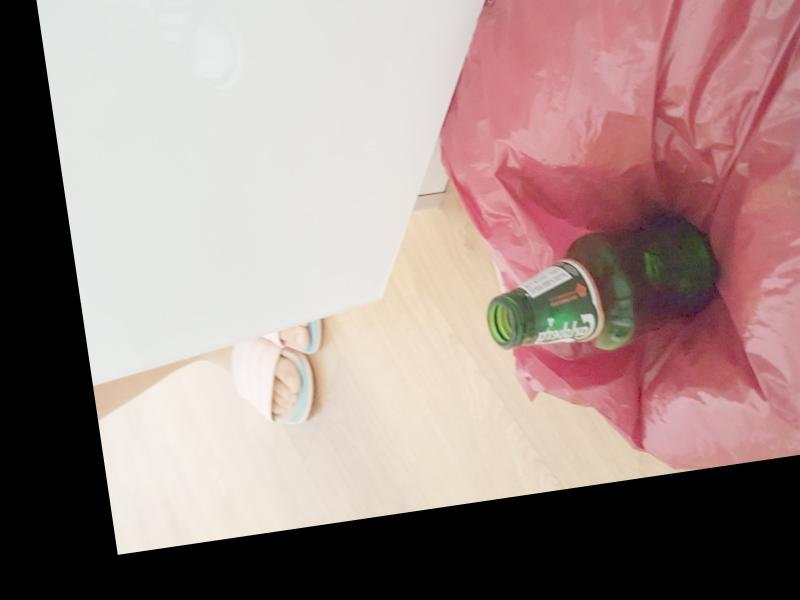Beer: (476, 206, 728, 365)
